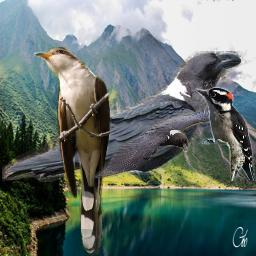Crow: (2, 51, 243, 182), (92, 99, 222, 180)
Cuckoo: (34, 47, 112, 255)
Woodpecker: (195, 87, 256, 181)
